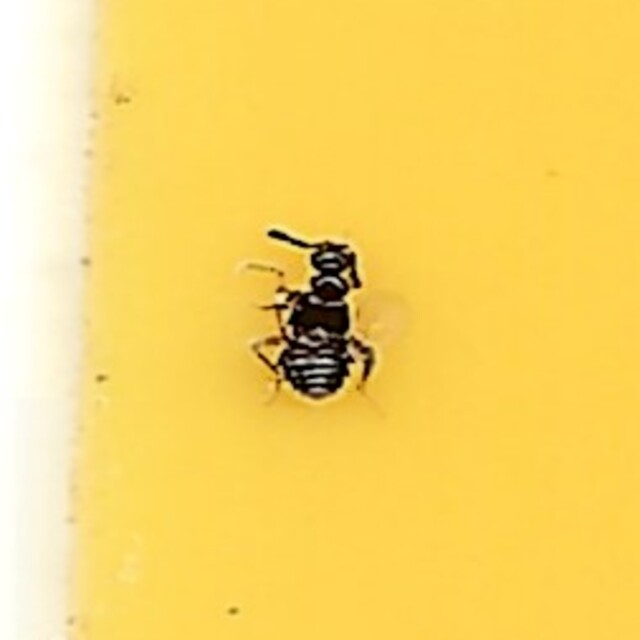Coleoptera: (253, 227, 387, 413)
